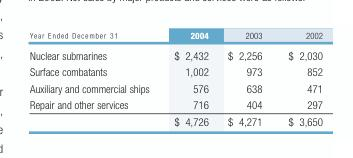table: (29, 28, 321, 126)
table column: (29, 28, 161, 126), (217, 28, 274, 126), (161, 28, 217, 126), (274, 28, 321, 126)
table column header: (29, 28, 321, 44)
table row: (29, 44, 321, 63), (29, 79, 321, 96), (29, 28, 321, 44), (29, 63, 321, 79), (29, 96, 321, 112), (29, 112, 321, 126)
